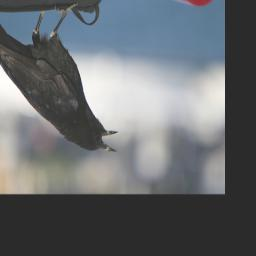Crow: (0, 0, 120, 155)
